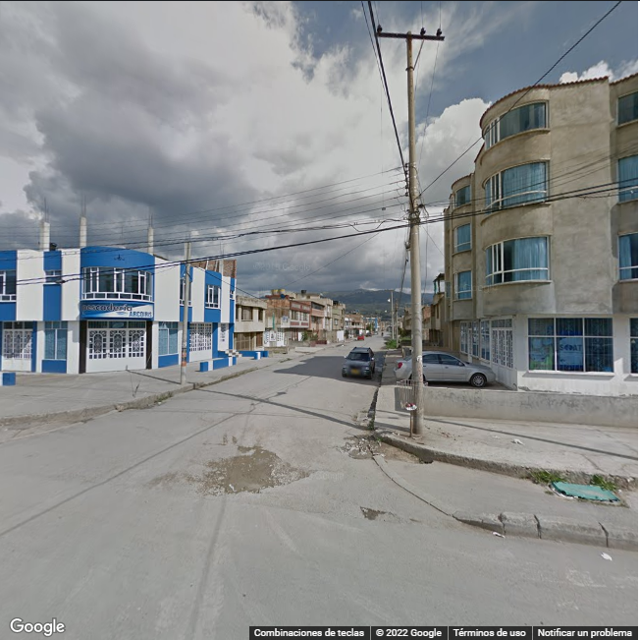D40: (221, 453, 305, 488), (355, 504, 402, 525)
